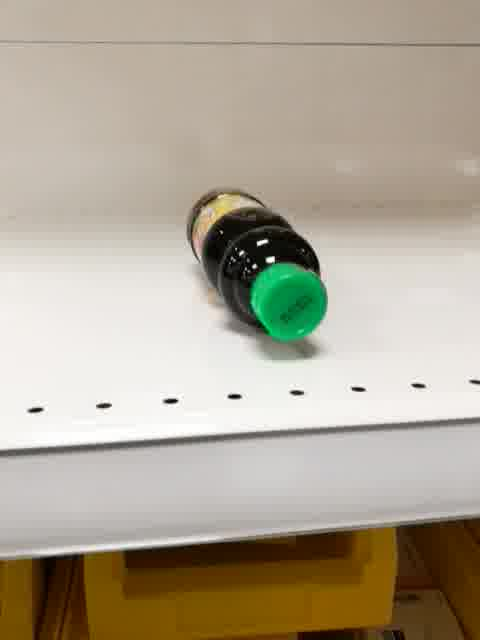cookingoil: (185, 183, 331, 346)
